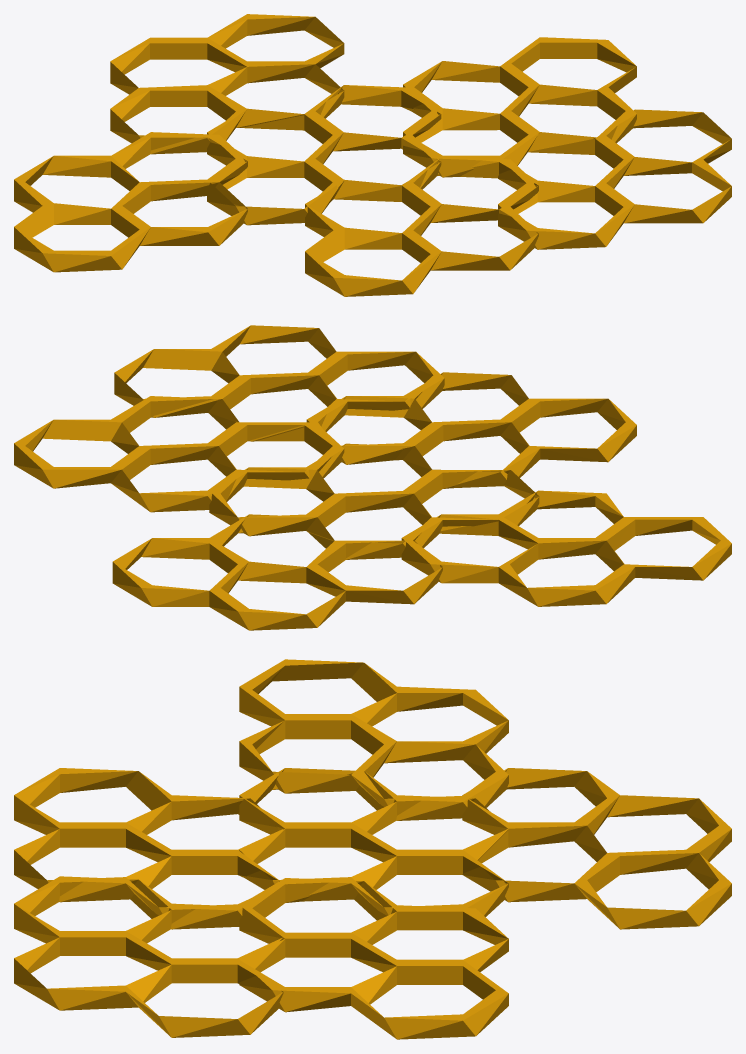
File: honeycomb2.glb
The picture shows the model from 3 angles, top to bottom: view 1: azimuth 30°, elevation 25°; view 2: azimuth 150°, elevation 25°; view 3: azimuth 270°, elevation 25°; orthographic projection. The views are drawn at different scales.
Parts seen in each view (by area): view 1: HoneyComb.005; view 2: HoneyComb.005; view 3: HoneyComb.005.
Boxes of the visible parts, x1,y1,x2,y2 form: HoneyComb.005: (14,14,731,296); HoneyComb.005: (14,325,731,630); HoneyComb.005: (14,659,731,1039).
Bounding box in the file's own units: 5.73 × 0.14 × 4.82.
